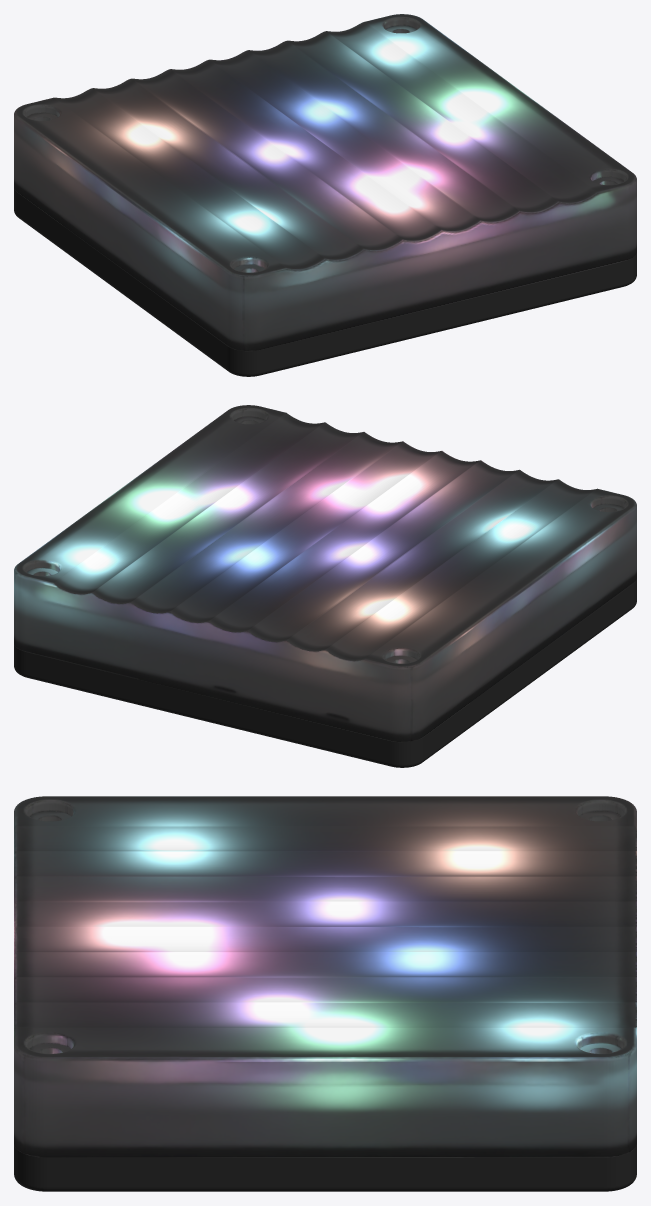
3 renders of one model, top to bottom at view 1: azimuth 30°, elevation 25°; view 2: azimuth 150°, elevation 25°; view 3: azimuth 270°, elevation 25°, orthographic. The views are drawn at different scales.
Visible parts, largest first — view 1: Diffuser, Back; view 2: Diffuser, Back; view 3: Diffuser, Back.
Boxes of the visible parts, box(x1,y1,x2,y2) form: Diffuser: box(14, 14, 636, 351); Back: box(14, 188, 636, 376); Diffuser: box(14, 405, 636, 742); Back: box(14, 579, 636, 767); Diffuser: box(14, 796, 636, 1157); Back: box(14, 1145, 636, 1191).
Size of the model in its own units: 85.3 by 22.28 by 85.3.
Materials: 2 (1 with a texture image).
